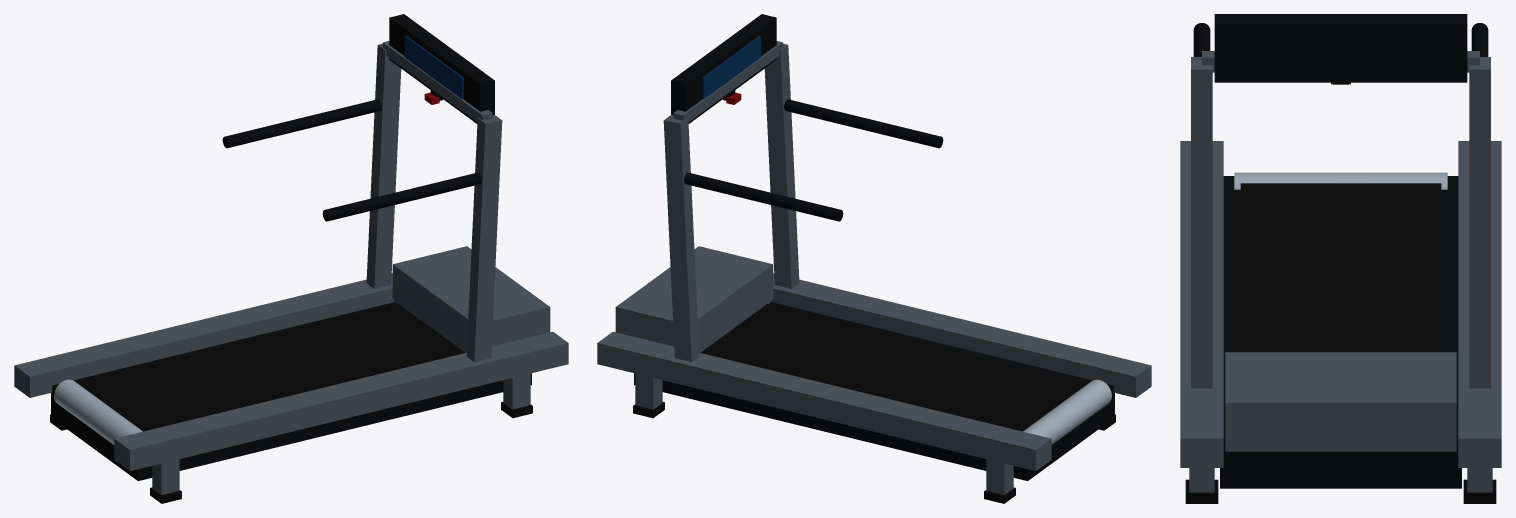
The model's file is cad_treadmill.glb.
The picture shows the model from 3 angles, left to right: view 1: azimuth 30°, elevation 25°; view 2: azimuth 150°, elevation 25°; view 3: azimuth 270°, elevation 25°; orthographic projection. The views are drawn at different scales.
Visible parts, largest first — view 1: 001_Continuous running belt, 007_Side landing rail, 002_Side landing rail, 012_Front motor cover, 000_Running deck, 010_Console upright, 005_Console upright, 014_Control console, 013_Rear belt roller, 006_Return hand grip, 011_Return hand grip, 015_Inset display (+3 smaller); view 2: 001_Continuous running belt, 002_Side landing rail, 007_Side landing rail, 012_Front motor cover, 000_Running deck, 005_Console upright, 010_Console upright, 014_Control console, 013_Rear belt roller, 011_Return hand grip, 006_Return hand grip, 015_Inset display (+3 smaller); view 3: 001_Continuous running belt, 012_Front motor cover, 014_Control console, 000_Running deck, 002_Side landing rail, 007_Side landing rail, 005_Console upright, 010_Console upright, 013_Rear belt roller, 022_Deck floor mounting post, 024_Deck floor mounting post, 004_Rubber floor foot (+4 smaller).
Part boxes in pixels (bbox=[...]): 001_Continuous running belt: bbox=[76, 304, 465, 431]; 007_Side landing rail: bbox=[114, 331, 568, 470]; 002_Side landing rail: bbox=[14, 273, 395, 397]; 012_Front motor cover: bbox=[392, 246, 550, 352]; 000_Running deck: bbox=[51, 302, 531, 480]; 010_Console upright: bbox=[466, 114, 502, 361]; 005_Console upright: bbox=[366, 44, 401, 288]; 014_Control console: bbox=[389, 14, 494, 123]; 013_Rear belt roller: bbox=[54, 379, 142, 444]; 006_Return hand grip: bbox=[222, 99, 381, 148]; 011_Return hand grip: bbox=[322, 172, 481, 221]; 015_Inset display: bbox=[404, 35, 463, 99]; 001_Continuous running belt: bbox=[700, 304, 1089, 431]; 002_Side landing rail: bbox=[597, 331, 1051, 470]; 007_Side landing rail: bbox=[770, 273, 1151, 397]; 012_Front motor cover: bbox=[615, 246, 773, 352]; 000_Running deck: bbox=[634, 302, 1114, 480]; 005_Console upright: bbox=[663, 114, 699, 361]; 010_Console upright: bbox=[764, 44, 799, 288]; 014_Control console: bbox=[671, 14, 776, 123]; 013_Rear belt roller: bbox=[1023, 379, 1111, 444]; 011_Return hand grip: bbox=[784, 99, 943, 148]; 006_Return hand grip: bbox=[684, 172, 843, 221]; 015_Inset display: bbox=[702, 35, 761, 99]; 001_Continuous running belt: bbox=[1240, 183, 1441, 352]; 012_Front motor cover: bbox=[1225, 352, 1456, 451]; 014_Control console: bbox=[1214, 14, 1467, 82]; 000_Running deck: bbox=[1220, 176, 1461, 488]; 002_Side landing rail: bbox=[1458, 141, 1501, 467]; 007_Side landing rail: bbox=[1180, 141, 1223, 467]; 005_Console upright: bbox=[1469, 57, 1490, 388]; 010_Console upright: bbox=[1191, 57, 1212, 388]; 013_Rear belt roller: bbox=[1234, 172, 1447, 189]; 022_Deck floor mounting post: bbox=[1467, 468, 1492, 492]; 024_Deck floor mounting post: bbox=[1189, 468, 1214, 492]; 004_Rubber floor foot: bbox=[1463, 479, 1496, 503].
Bounding box in the file's own units: 1.95 × 1.41 × 0.89.
